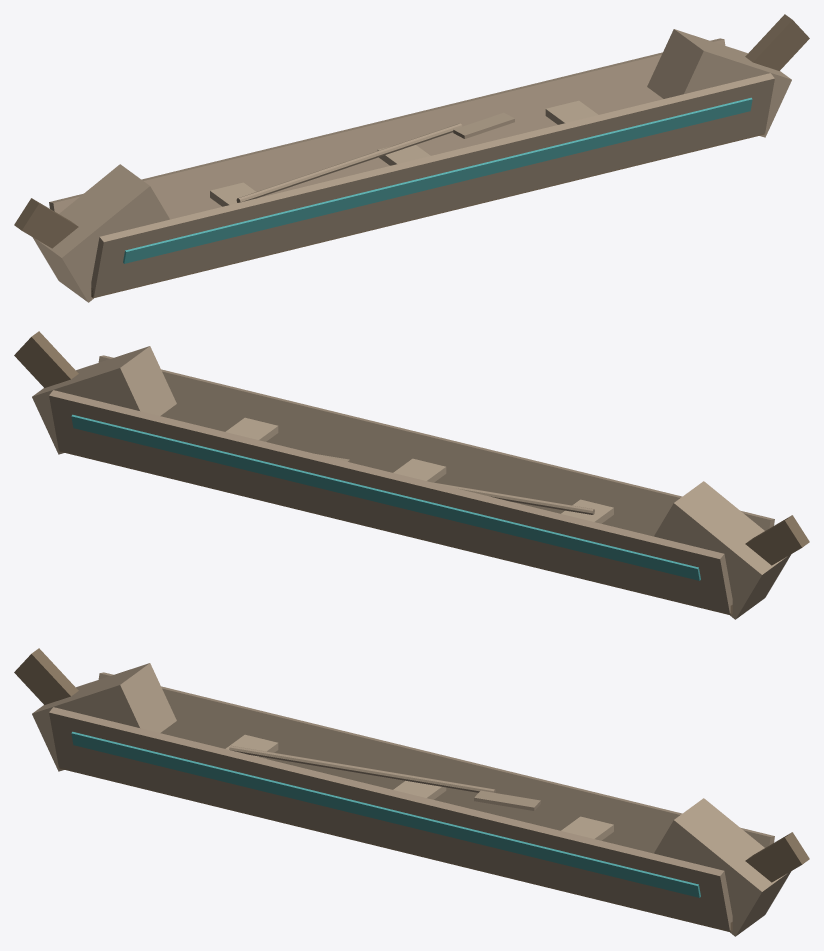
Rendered from canoe_dugout.glb.
3 views of the same model, one above another, from view 1: azimuth 30°, elevation 25°; view 2: azimuth 150°, elevation 25°; view 3: azimuth 330°, elevation 25° (orthographic).
Visible parts, largest first — view 1: MK_canoe_dugout; view 2: MK_canoe_dugout; view 3: MK_canoe_dugout.
Boxes of the visible parts, <box> form: MK_canoe_dugout: <box>14,14,809,302</box>; MK_canoe_dugout: <box>14,331,809,619</box>; MK_canoe_dugout: <box>14,648,809,936</box>.
Bounding box in the file's own units: 7.05 × 0.8703 × 0.8524.
